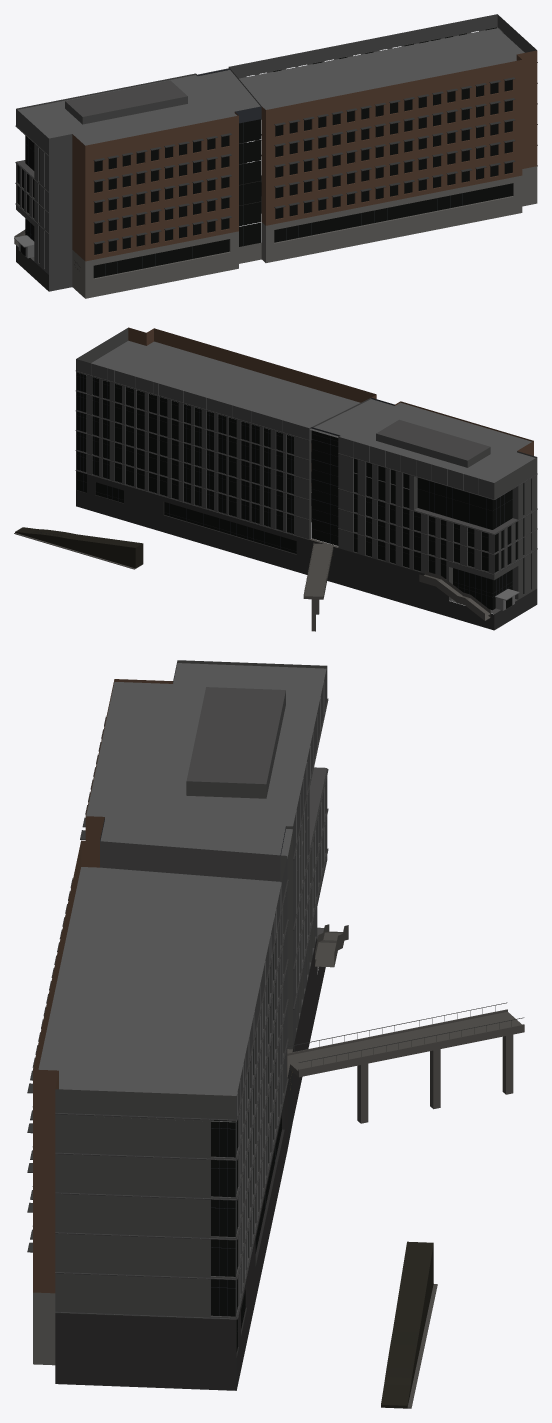
The model's file is gary-l-thomas-energy-engineering-building-look.glb.
3 views of the same model, one above another, from view 1: azimuth 30°, elevation 25°; view 2: azimuth 150°, elevation 25°; view 3: azimuth 270°, elevation 25° (orthographic). The views are drawn at different scales.
Parts seen in each view (by area): view 1: n_wall_brick_tan, n_roof, n_glass_window, n_wall_metal_panel, n_wall_stone_base, n_glass_storefront, n_metal_fin_dark, n_metal_mullion, n_wall_brick_dark; view 2: n_wall_metal_panel, n_glass_window, n_roof, n_wall_brick_dark, n_wall_brick_tan, n_metal_trim_light, n_metal_fin_dark, n_glass_storefront, n_metal_mullion, n_concrete, n_wall_ramp_dark; view 3: n_roof, n_wall_metal_panel, n_wall_brick_dark, n_concrete, n_metal_fin_dark, n_wall_brick_tan, n_metal_trim_light, n_glass_window, n_wall_ramp_dark, n_wall_stone_base.
Boxes of the visible parts, x1,y1,x2,y2 form: n_wall_brick_tan: [72, 50, 537, 261]; n_roof: [18, 28, 524, 145]; n_glass_window: [17, 27, 512, 262]; n_wall_metal_panel: [16, 14, 536, 291]; n_wall_stone_base: [72, 166, 537, 298]; n_glass_storefront: [20, 182, 512, 278]; n_metal_fin_dark: [15, 62, 537, 244]; n_metal_mullion: [25, 47, 462, 275]; n_wall_brick_dark: [16, 176, 261, 291]; n_wall_metal_panel: [76, 328, 537, 614]; n_glass_window: [77, 372, 531, 593]; n_roof: [77, 340, 535, 482]; n_wall_brick_dark: [76, 471, 537, 630]; n_wall_brick_tan: [128, 327, 533, 485]; n_metal_trim_light: [76, 364, 537, 574]; n_metal_fin_dark: [36, 370, 537, 580]; n_glass_storefront: [164, 493, 512, 610]; n_metal_mullion: [77, 373, 512, 606]; n_concrete: [14, 532, 490, 631]; n_wall_ramp_dark: [15, 527, 143, 568]; n_roof: [38, 663, 326, 1122]; n_wall_metal_panel: [55, 660, 327, 1318]; n_wall_brick_dark: [55, 936, 325, 1390]; n_concrete: [287, 924, 524, 1408]; n_metal_fin_dark: [27, 698, 524, 1377]; n_wall_brick_tan: [33, 679, 172, 1293]; n_metal_trim_light: [55, 682, 328, 1319]; n_glass_window: [211, 834, 284, 1351]; n_wall_ramp_dark: [381, 1241, 433, 1408]; n_wall_stone_base: [33, 1292, 55, 1365].
Size of the model in its own units: 121 by 37.93 by 55.75.
